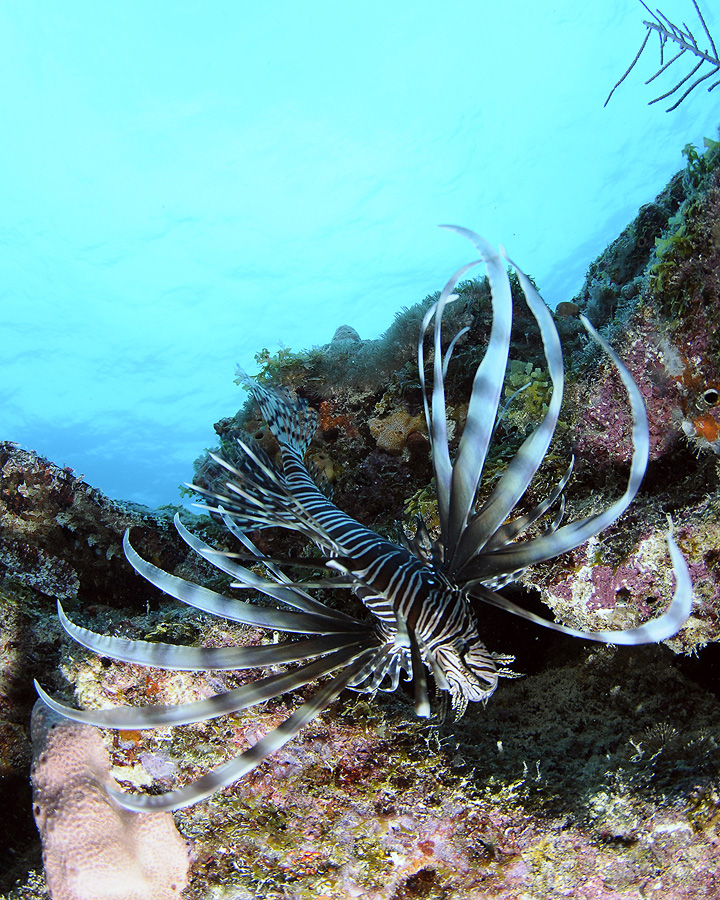Pterois_volitans: (2, 234, 708, 819)
